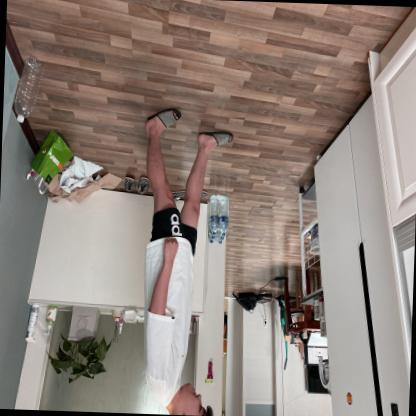no_safety-shoe: (140, 99, 181, 141), (195, 123, 234, 157)
